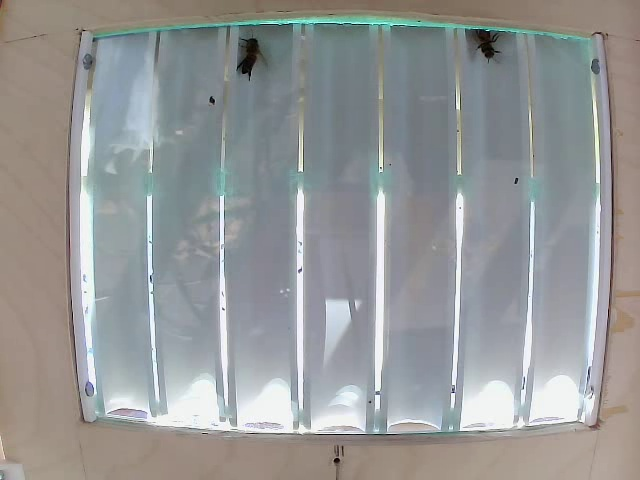bee: (236, 23, 266, 89), (471, 20, 509, 72)
